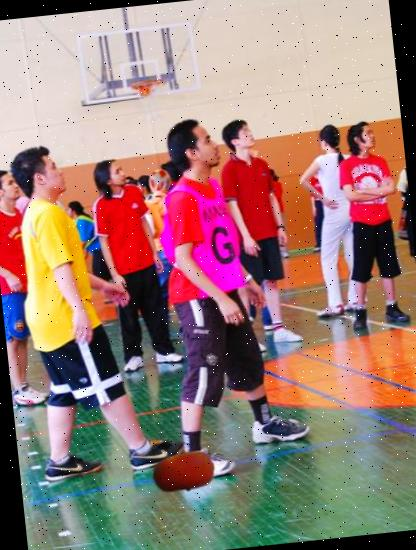Nectarine: (148, 436, 218, 506)
